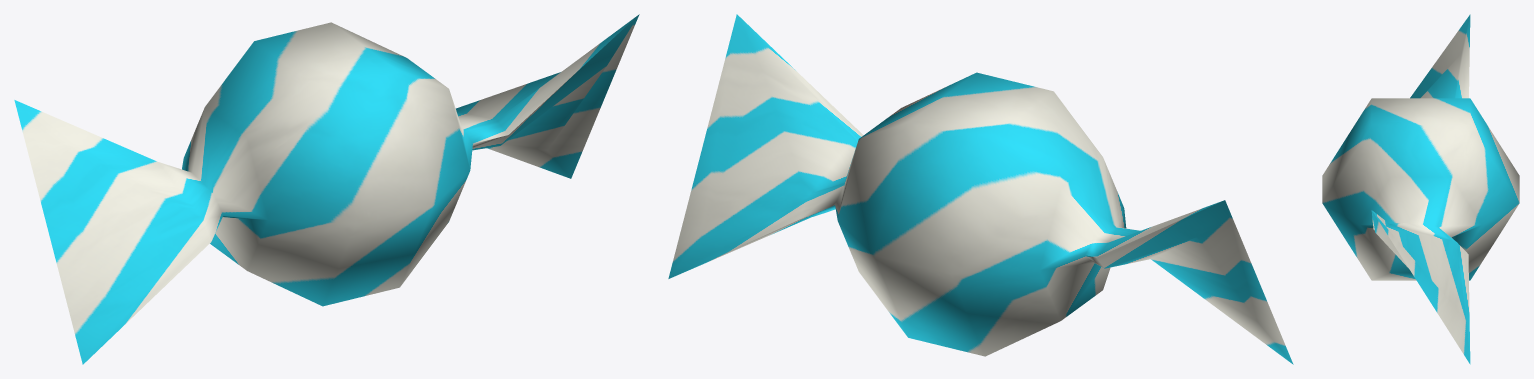
Rendered from CandyBlue.fbx.
The picture shows the model from 3 angles, left to right: view 1: azimuth 30°, elevation 25°; view 2: azimuth 150°, elevation 25°; view 3: azimuth 270°, elevation 25°; orthographic projection. The views are drawn at different scales.
Parts seen in each view (by area): view 1: Empty_Mesh; view 2: Empty_Mesh; view 3: Empty_Mesh.
Part boxes in pixels (box(x1,y1,x2,y2)): Empty_Mesh: box(14, 14, 639, 364); Empty_Mesh: box(668, 14, 1293, 364); Empty_Mesh: box(1322, 14, 1519, 364).
Bounding box in the file's own units: 0.4462 × 0.1647 × 0.1902.
